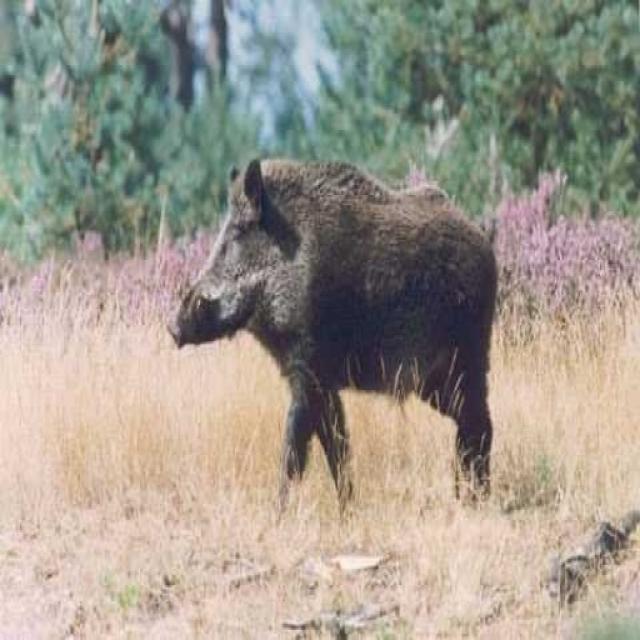pig: (149, 104, 529, 505)
